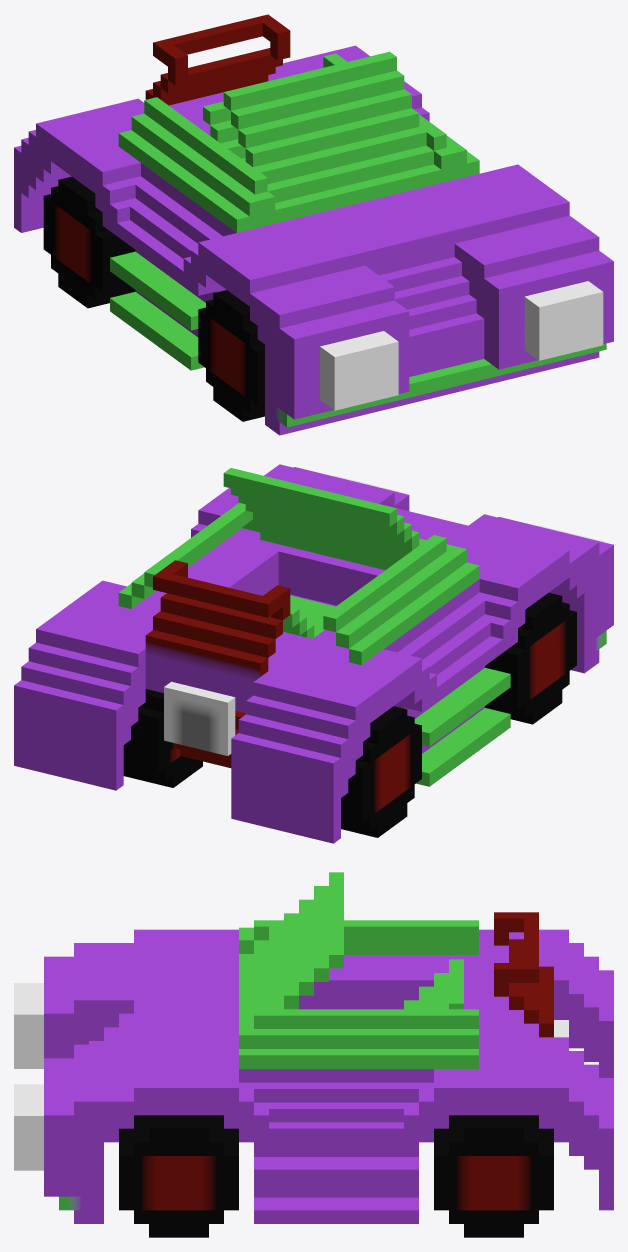
File: Car_36.fbx
3 renders of one model, top to bottom at view 1: azimuth 30°, elevation 25°; view 2: azimuth 150°, elevation 25°; view 3: azimuth 270°, elevation 25°, orthographic.
Parts seen in each view (by area): view 1: Car_37; view 2: Car_37; view 3: Car_37.
Part boxes in pixels (bbox=[...]): Car_37: bbox=[14, 14, 613, 435]; Car_37: bbox=[14, 464, 613, 843]; Car_37: bbox=[14, 872, 613, 1237].
Bounding box in the file's own units: 25 × 18 × 40.
1 material, 1 textured.
